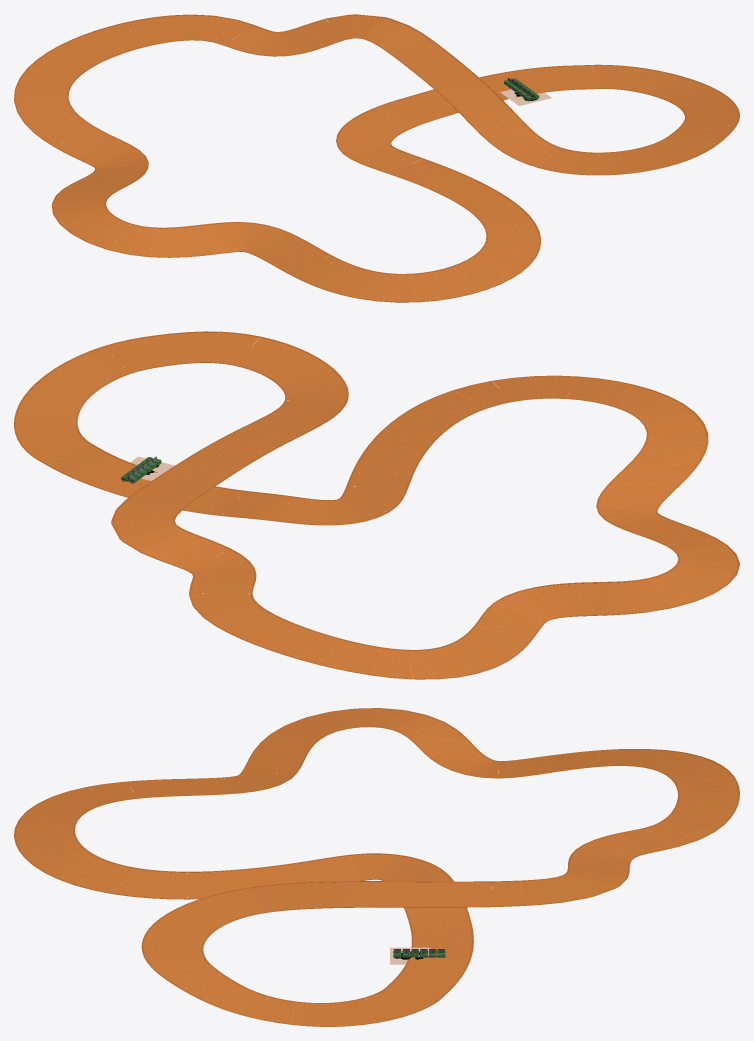
The model's file is pista.fbx.
3 renders of one model, top to bottom at view 1: azimuth 30°, elevation 25°; view 2: azimuth 150°, elevation 25°; view 3: azimuth 270°, elevation 25°, orthographic. The views are drawn at different scales.
Parts seen in each view (by area): view 1: pista; view 2: pista; view 3: pista.
Part boxes in pixels (left/top/right/bottom): pista: left=14, top=14, right=739, bottom=302; pista: left=14, top=331, right=739, bottom=679; pista: left=14, top=708, right=739, bottom=1026.
Bounding box in the file's own units: 21726 × 1243 × 20513.
